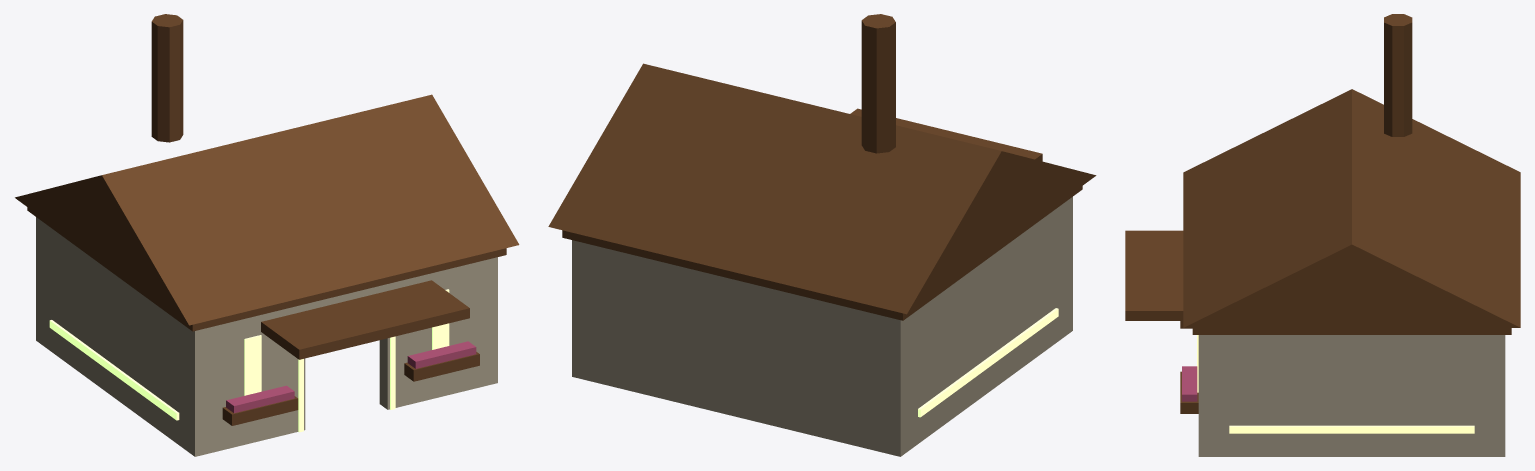
The model's file is shaddai_dist_meadow_home_a_v01.glb.
The picture shows the model from 3 angles, left to right: view 1: azimuth 30°, elevation 25°; view 2: azimuth 150°, elevation 25°; view 3: azimuth 270°, elevation 25°; orthographic projection. The views are drawn at different scales.
Visible parts, largest first — view 1: shaddai_dist_meadow_home_a; view 2: shaddai_dist_meadow_home_a; view 3: shaddai_dist_meadow_home_a.
Part boxes in pixels (bbox=[...]): shaddai_dist_meadow_home_a: bbox=[15, 14, 519, 456]; shaddai_dist_meadow_home_a: bbox=[548, 14, 1096, 456]; shaddai_dist_meadow_home_a: bbox=[1125, 14, 1520, 456].
Bounding box in the file's own units: 12 × 11.88 × 12.9.
